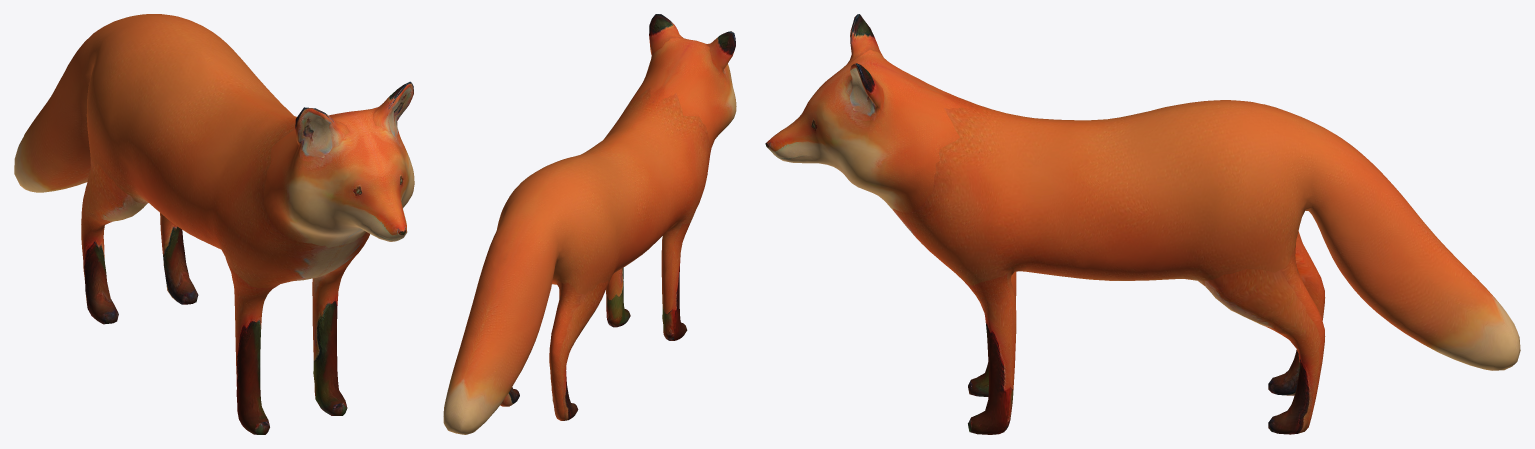
The model's file is fox.obj.
3 views of the same model, side by side, from view 1: azimuth 30°, elevation 25°; view 2: azimuth 150°, elevation 25°; view 3: azimuth 270°, elevation 25° (orthographic). The views are drawn at different scales.
Parts seen in each view (by area): view 1: fox; view 2: fox; view 3: fox.
Boxes of the visible parts, x1=… form: fox: x1=14, y1=14, x2=414, y2=434; fox: x1=443, y1=14, x2=736, y2=434; fox: x1=765, y1=14, x2=1520, y2=434.
Size of the model in its own units: 0.2155 by 0.5423 by 0.9915.
Materials: 1 (1 with a texture image).
